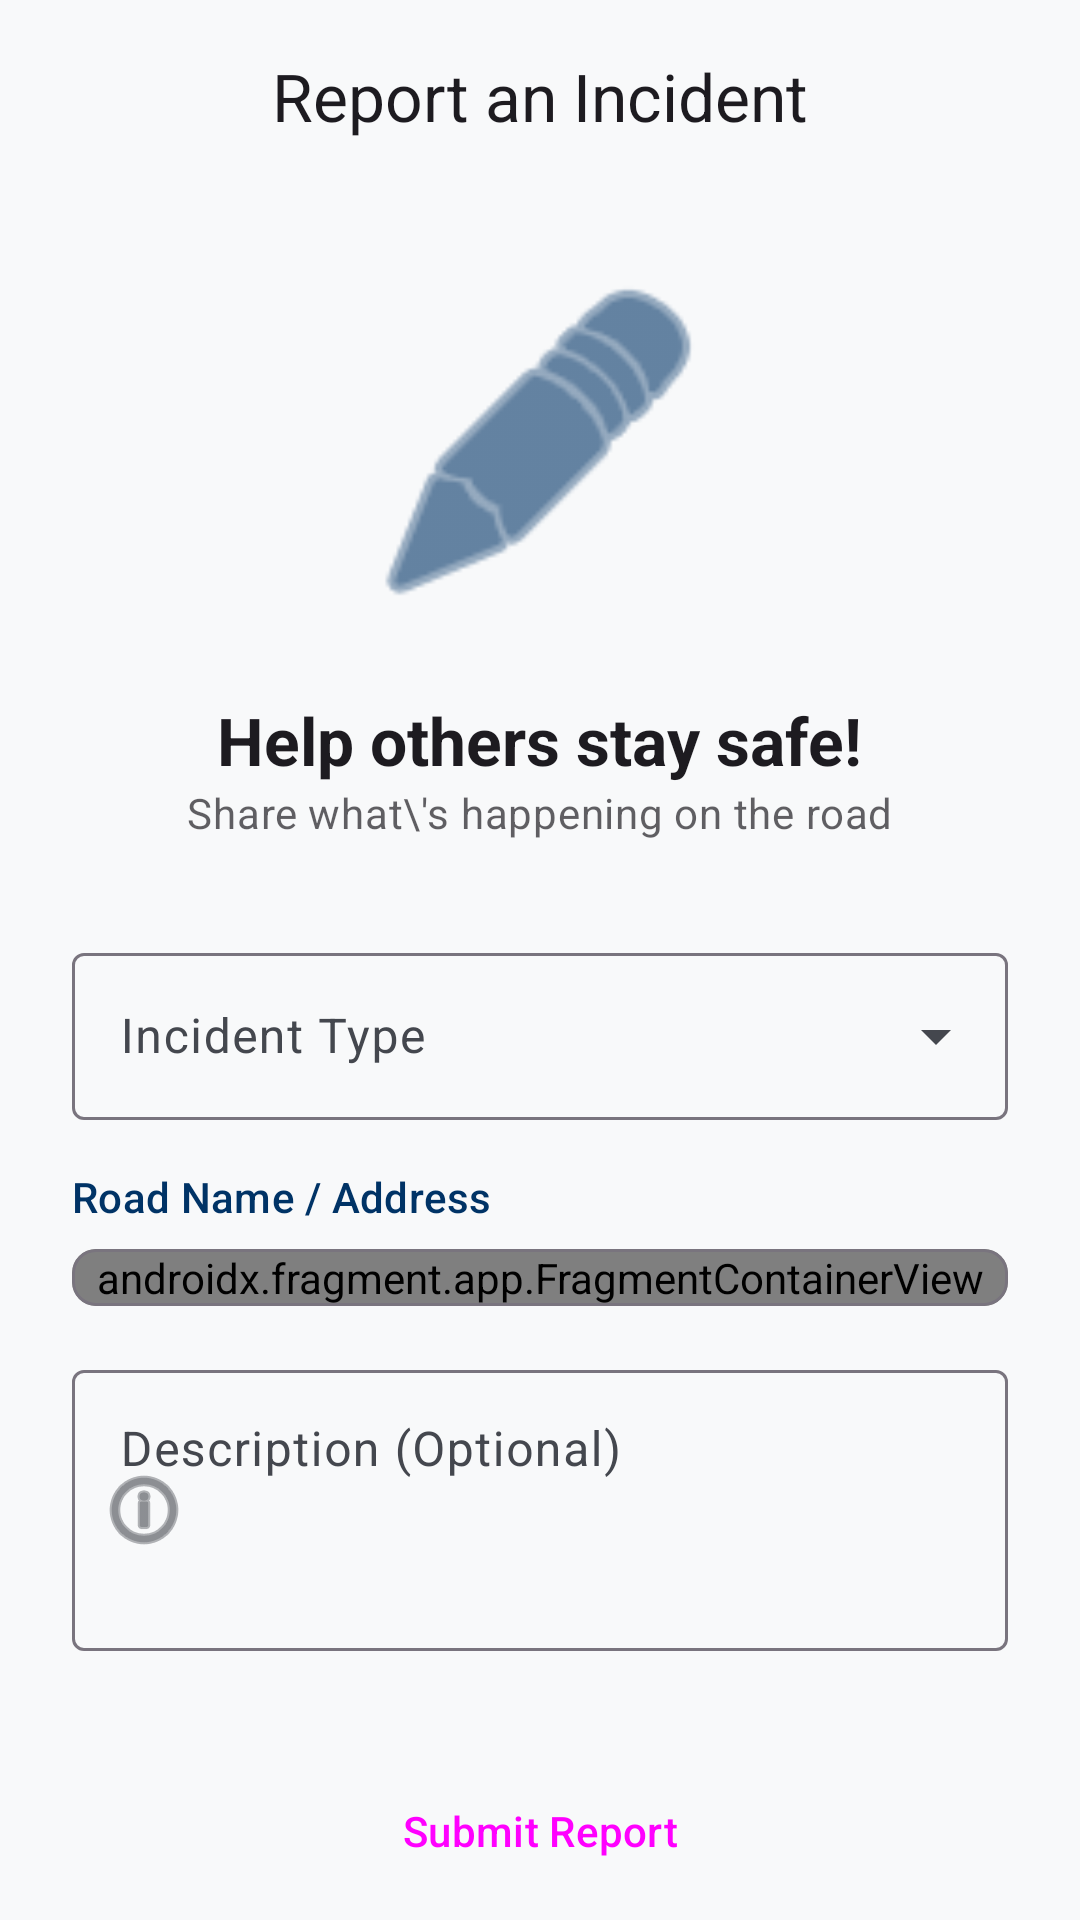

Icons on this 1080*1920 Android screen, each with the point to tap as (x,y):
edit: (538,441)
